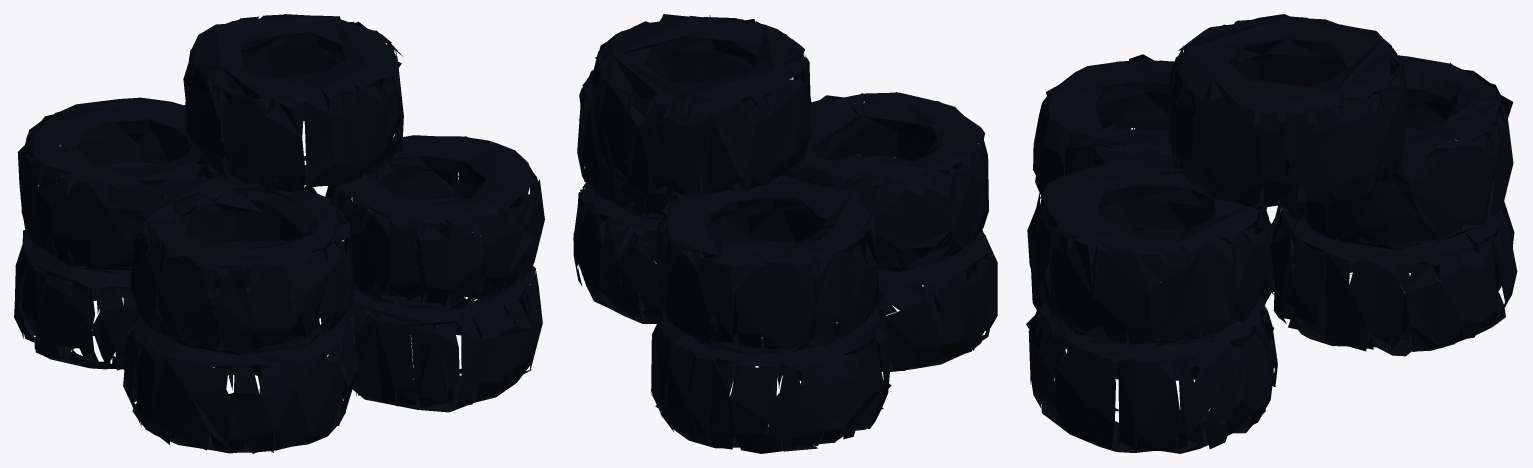
File: tire_pile.glb
3 renders of one model, left to right at view 1: azimuth 30°, elevation 25°; view 2: azimuth 150°, elevation 25°; view 3: azimuth 270°, elevation 25°, orthographic. The views are drawn at different scales.
Parts seen in each view (by area): view 1: obj.obj; view 2: obj.obj; view 3: obj.obj.
Boxes of the visible parts, x1,y1,x2,y2 form: obj.obj: (14,14,544,453); obj.obj: (573,14,997,453); obj.obj: (1026,14,1517,453).
Bounding box in the file's own units: 1.56 × 1.1 × 1.56.
1 material, 1 textured.
